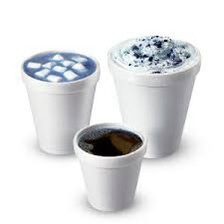paper_cup: (101, 28, 205, 164), (15, 45, 102, 160), (67, 117, 153, 216)
